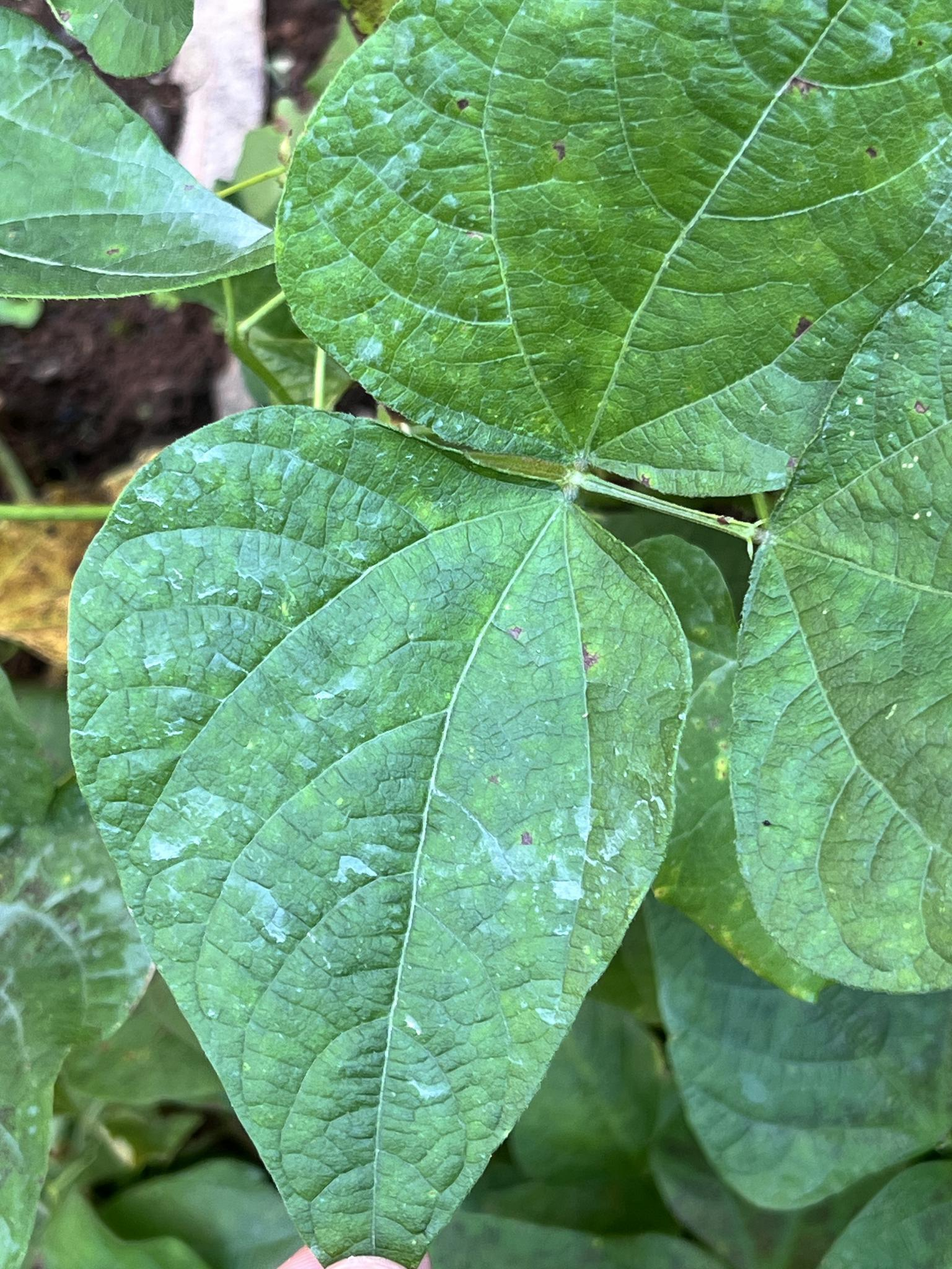embun tepung: (43, 407, 448, 1263), (447, 768, 679, 1047), (95, 106, 274, 243)
